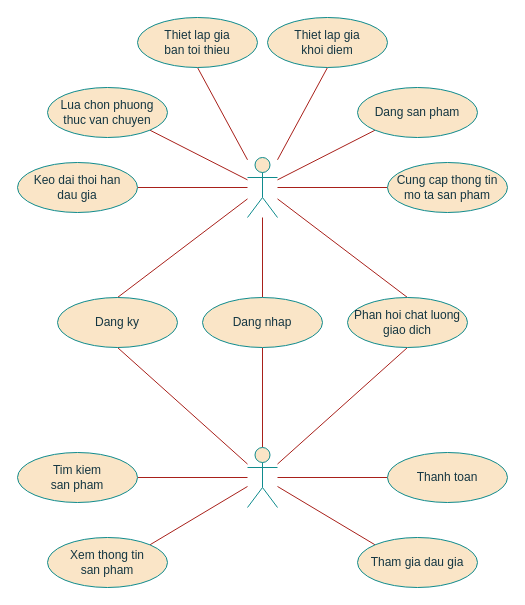
The diagram is 525 pixels wide and 605 high, and some of its shapes have lost their labels. The centre of each missing label's shape, as x and y in pixels:
Nguoi ban: [262,187]
Nguoi mua: [262,477]
